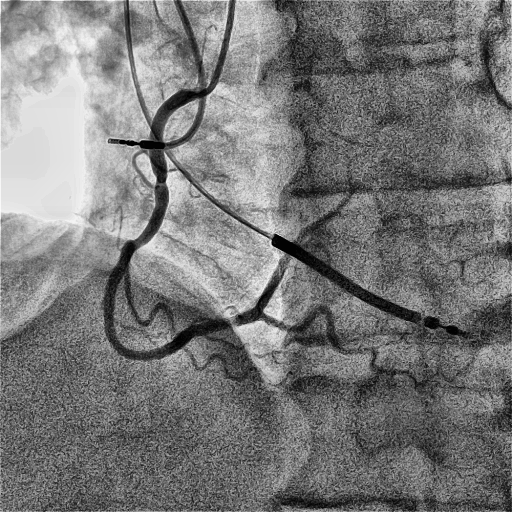pborca: (259, 180, 355, 308)
pda: (257, 306, 428, 388)
rca: (104, 87, 263, 361)
